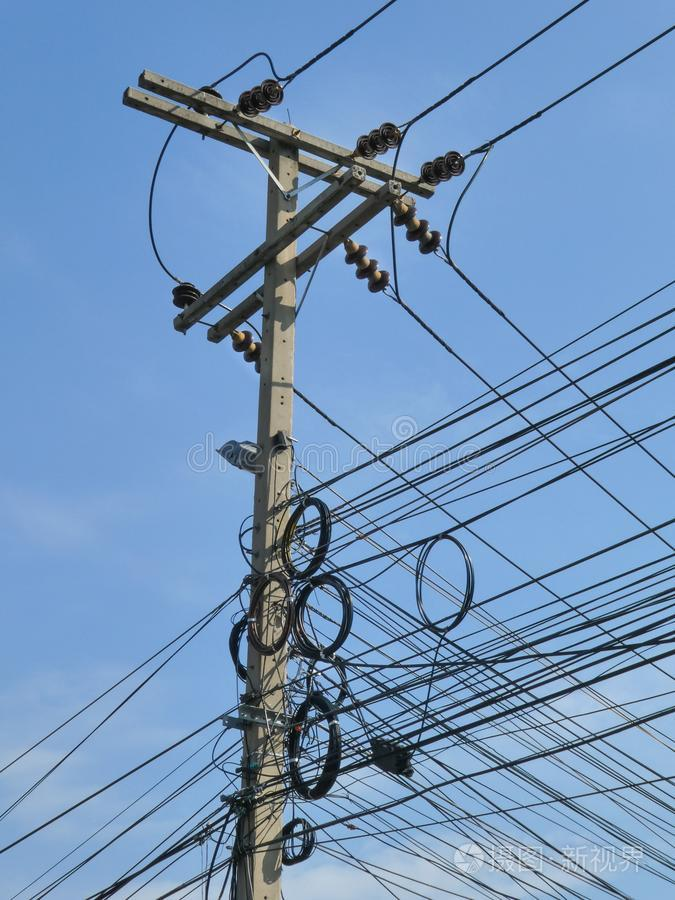insulator: (391, 202, 441, 256), (346, 243, 389, 292), (354, 124, 403, 159), (423, 151, 469, 187), (236, 80, 286, 112), (236, 332, 263, 372)
